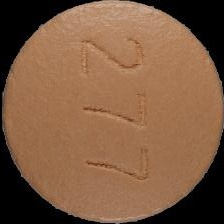55154-5042: (0, 0, 224, 224)
